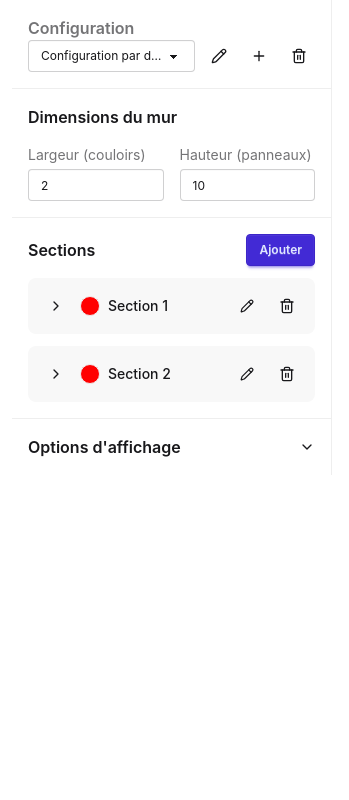
it: Sidebar › DisplayOptions section › should toggle options content when clicked
Expected: the text "Système de coordonnées" is not shown
Click to expand
Click the button "Options d'affichage" at (172, 447), box [12, 419, 331, 475]
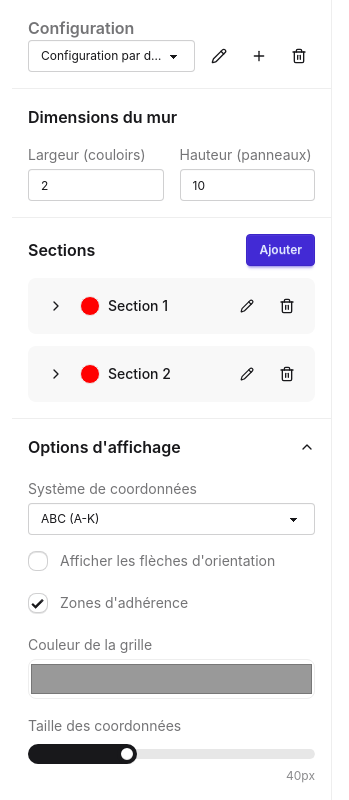
Expected: the text "Système de coordonnées" is shown, [28, 479, 197, 499]
Expected: the text "Afficher les flèches d'orientation" is shown, [60, 551, 275, 571]
Expected: the text "Couleur de la grille" is shown, [28, 635, 152, 655]
